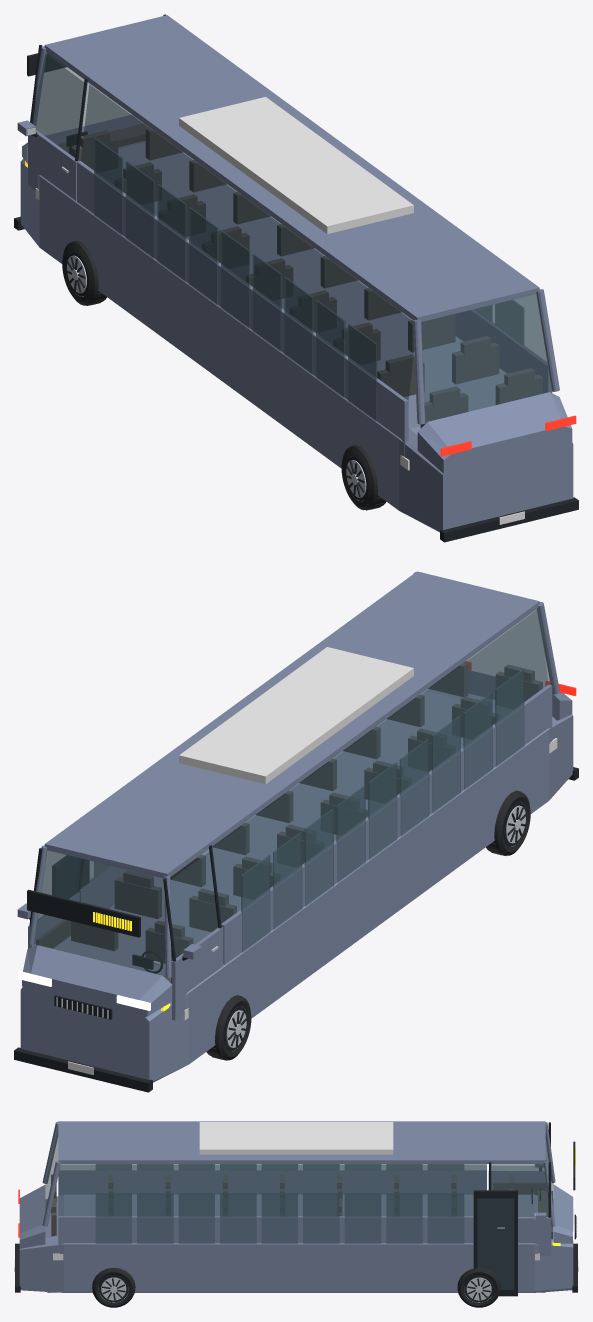
The model's file is bus_coach.glb.
3 views of the same model, one above another, from view 1: azimuth 30°, elevation 25°; view 2: azimuth 150°, elevation 25°; view 3: azimuth 270°, elevation 25° (orthographic). The views are drawn at different scales.
Parts seen in each view (by area): view 1: Body, Door_FL, Wheel_FL, Wheel_RL; view 2: Body, Door_FL, Door_FR, Wheel_RL, Wheel_FL, Door_Bus; view 3: Body, Door_Bus, Door_FR, Door_FL, Wheel_RR, Wheel_FR.
Boxes of the visible parts, bbox=[...] form: Body: bbox=[14, 15, 578, 542]; Door_FL: bbox=[17, 45, 87, 200]; Wheel_FL: bbox=[62, 240, 106, 305]; Wheel_RL: bbox=[341, 445, 386, 510]; Body: bbox=[14, 571, 578, 1092]; Door_FL: bbox=[163, 845, 223, 1020]; Door_FR: bbox=[17, 848, 82, 948]; Wheel_RL: bbox=[486, 790, 530, 855]; Wheel_FL: bbox=[206, 995, 251, 1060]; Door_Bus: bbox=[52, 855, 89, 898]; Body: bbox=[14, 1121, 578, 1292]; Door_Bus: bbox=[473, 1190, 517, 1296]; Door_FR: bbox=[489, 1162, 551, 1255]; Door_FL: bbox=[488, 1122, 551, 1195]; Wheel_RR: bbox=[92, 1267, 135, 1307]; Wheel_FR: bbox=[457, 1268, 500, 1307].
Size of what is drawn, in the model's own units: 3 by 3.69 by 12.76.
